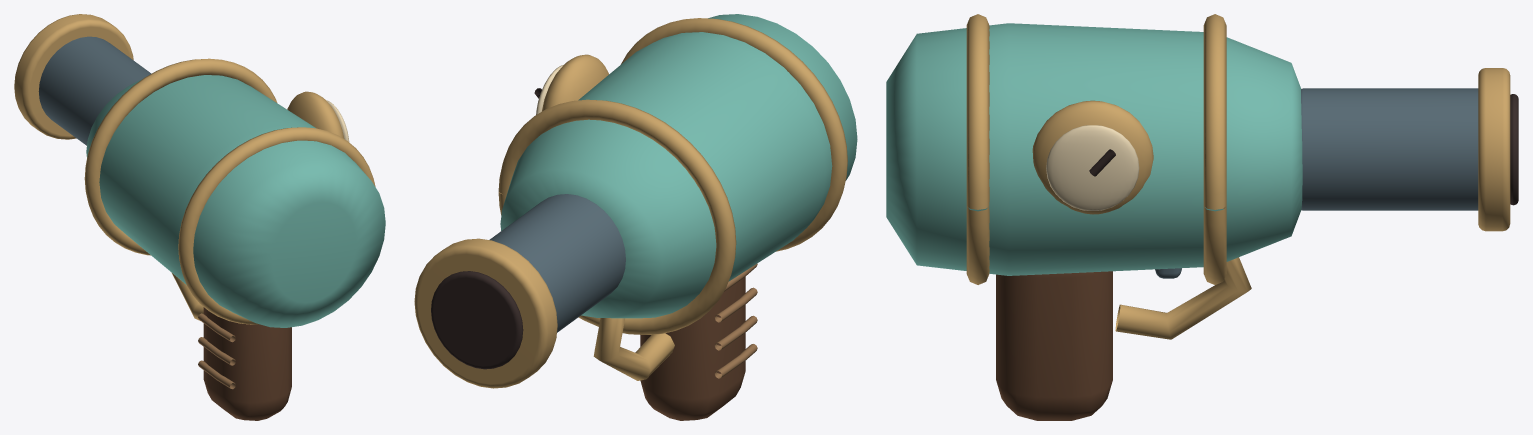
File: weapon_blaster_crafted.glb
The picture shows the model from 3 angles, left to right: view 1: azimuth 30°, elevation 25°; view 2: azimuth 150°, elevation 25°; view 3: azimuth 270°, elevation 25°; orthographic projection. The views are drawn at different scales.
Parts seen in each view (by area): view 1: Seafoam glazed airgun, Satin antique brass, Oiled walnut grip, Brushed blue iron, Polished worn timber edge; view 2: Seafoam glazed airgun, Satin antique brass, Brushed blue iron, Oiled walnut grip, Deep joinery recess, Polished worn timber edge; view 3: Seafoam glazed airgun, Satin antique brass, Brushed blue iron, Oiled walnut grip, Lime plaster / warm ivory, Deep joinery recess.
Boxes of the visible parts, x1,y1,x2,y2 form: Seafoam glazed airgun: (86, 75, 385, 327); Satin antique brass: (14, 14, 375, 324); Oiled walnut grip: (203, 307, 291, 420); Brushed blue iron: (38, 36, 151, 145); Polished worn timber edge: (198, 313, 235, 389); Seafoam glazed airgun: (500, 14, 857, 318); Satin antique brass: (414, 18, 847, 388); Brushed blue iron: (489, 194, 625, 332); Oiled walnut grip: (640, 277, 745, 420); Deep joinery recess: (431, 88, 541, 369); Polished worn timber edge: (715, 263, 757, 378); Seafoam glazed airgun: (886, 23, 1302, 275); Satin antique brass: (966, 14, 1510, 339); Brushed blue iron: (1155, 88, 1478, 278); Oiled walnut grip: (996, 271, 1112, 420); Lime plaster / warm ivory: (1046, 125, 1139, 210); Deep joinery recess: (1089, 94, 1518, 205).
Size of the model in its own units: 0.399 by 0.557 by 0.827.
